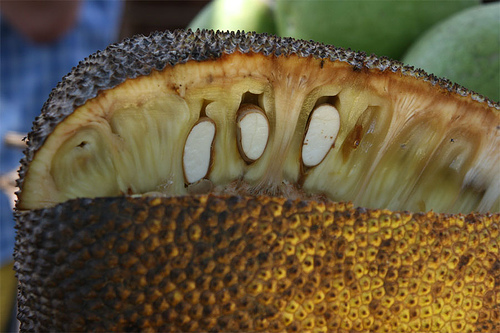jackfruit: (15, 28, 499, 332)
